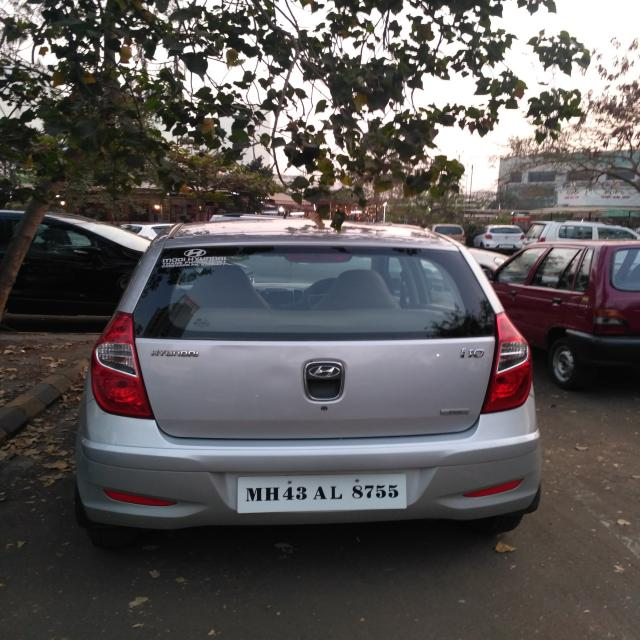Number-Plate: (234, 474, 404, 509)
